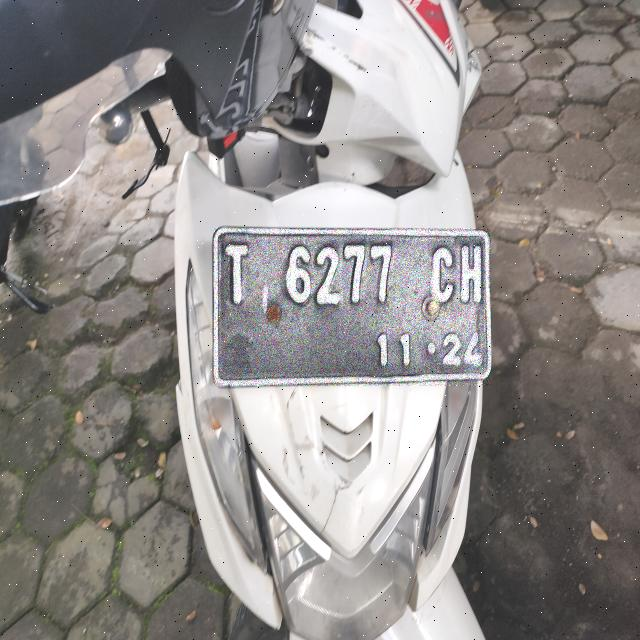plate: (214, 228, 490, 385)
